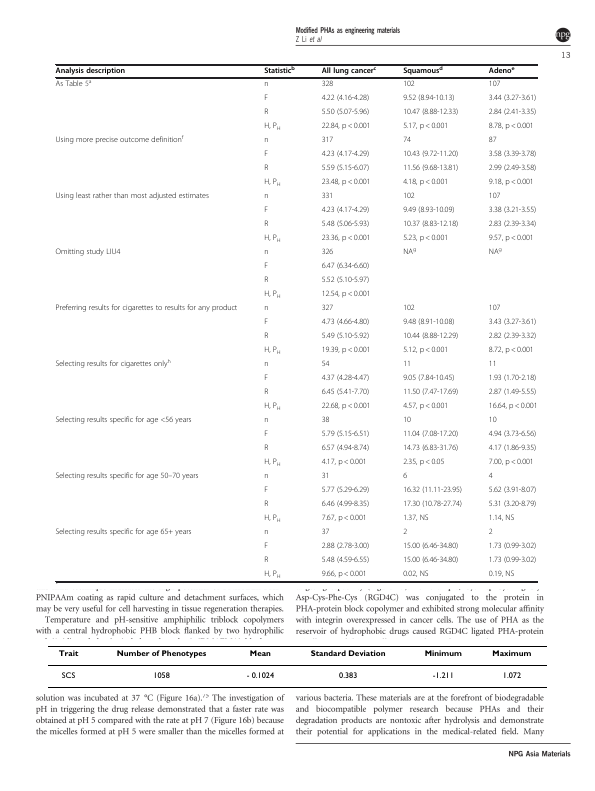borderless: (54, 63, 537, 581), (47, 644, 547, 687)
cell: (55, 304, 238, 314), (55, 192, 210, 202), (55, 134, 184, 146), (55, 472, 199, 482), (55, 358, 172, 370), (55, 416, 192, 426), (55, 528, 192, 538), (115, 649, 207, 658), (309, 649, 386, 658), (55, 248, 121, 258), (55, 67, 126, 76), (321, 65, 377, 76), (402, 486, 463, 496), (402, 500, 463, 510), (402, 108, 459, 118), (402, 150, 459, 160), (402, 164, 459, 174), (402, 220, 459, 230), (402, 332, 459, 342), (402, 388, 459, 398), (402, 430, 459, 440), (402, 444, 459, 454), (402, 542, 459, 552), (402, 556, 459, 566), (402, 94, 455, 104), (402, 206, 455, 216), (402, 318, 455, 328), (402, 374, 455, 384), (321, 122, 371, 132), (321, 178, 371, 188), (321, 234, 371, 244), (321, 290, 371, 300), (321, 346, 371, 356), (321, 402, 371, 412), (488, 402, 538, 412), (321, 94, 370, 104), (488, 94, 537, 104), (321, 108, 370, 118), (488, 108, 537, 118), (321, 150, 370, 160), (488, 150, 537, 160), (321, 164, 370, 174), (488, 164, 537, 174), (321, 206, 370, 216), (488, 206, 537, 216), (321, 220, 370, 230), (488, 220, 537, 230), (321, 262, 370, 272), (321, 276, 370, 286), (321, 318, 370, 328), (488, 318, 537, 328), (321, 332, 370, 342), (488, 332, 537, 342), (321, 374, 370, 384), (488, 374, 537, 384), (321, 388, 370, 398), (488, 388, 537, 398), (321, 430, 370, 440), (488, 430, 537, 440), (321, 444, 370, 454), (488, 444, 537, 454), (321, 486, 370, 496), (488, 486, 537, 496), (321, 500, 370, 510), (488, 500, 537, 510), (321, 542, 370, 552), (488, 542, 537, 552), (321, 556, 370, 566), (488, 556, 537, 566), (402, 122, 449, 132), (488, 122, 535, 132), (402, 178, 449, 188), (488, 178, 535, 188), (402, 234, 449, 244), (488, 234, 535, 244), (402, 346, 449, 356), (488, 346, 535, 356), (402, 402, 449, 412), (321, 458, 368, 468), (488, 458, 535, 468), (321, 514, 368, 524), (321, 570, 368, 580), (402, 65, 444, 76), (55, 78, 92, 90), (402, 458, 445, 468), (491, 649, 532, 658), (263, 65, 296, 76), (423, 649, 462, 658), (488, 65, 515, 76), (402, 514, 429, 524), (488, 514, 515, 524), (402, 570, 429, 580), (488, 570, 515, 580), (245, 671, 275, 679), (248, 649, 271, 658), (57, 649, 79, 658), (263, 122, 282, 132), (263, 178, 282, 188), (263, 234, 282, 244), (263, 290, 282, 300), (263, 346, 282, 356), (263, 402, 282, 412), (263, 458, 282, 468), (263, 514, 282, 524), (263, 570, 282, 580), (431, 671, 454, 679), (402, 246, 417, 258), (488, 246, 503, 258), (501, 671, 522, 679), (338, 671, 358, 679), (152, 671, 170, 679), (402, 80, 416, 90), (402, 192, 416, 202), (402, 304, 416, 314), (321, 80, 334, 90), (488, 80, 501, 90), (321, 136, 334, 146), (321, 192, 334, 202), (488, 192, 501, 202), (321, 248, 334, 258), (321, 304, 334, 314), (488, 304, 501, 314), (60, 671, 76, 679), (402, 136, 412, 146), (402, 360, 412, 370), (402, 416, 412, 426), (488, 136, 497, 146), (321, 360, 330, 370), (488, 360, 497, 370), (321, 416, 330, 426), (488, 416, 497, 426), (321, 472, 330, 482), (321, 528, 330, 538), (263, 80, 269, 90), (263, 94, 269, 104), (263, 108, 269, 118), (263, 136, 269, 146), (263, 150, 269, 160), (263, 164, 269, 174), (263, 192, 269, 202), (263, 206, 269, 216), (263, 220, 269, 230), (263, 248, 269, 258), (263, 262, 269, 272), (263, 276, 269, 286), (263, 304, 269, 314), (263, 318, 269, 328), (263, 332, 269, 342), (263, 360, 269, 370), (263, 374, 269, 384), (263, 388, 269, 398), (263, 416, 269, 426), (263, 430, 269, 440), (263, 444, 269, 454), (263, 472, 269, 482), (402, 472, 408, 482), (488, 472, 494, 482), (263, 486, 269, 496), (263, 500, 269, 510), (263, 528, 269, 538), (402, 528, 408, 538), (488, 528, 494, 538), (263, 542, 269, 552), (263, 556, 269, 566)
